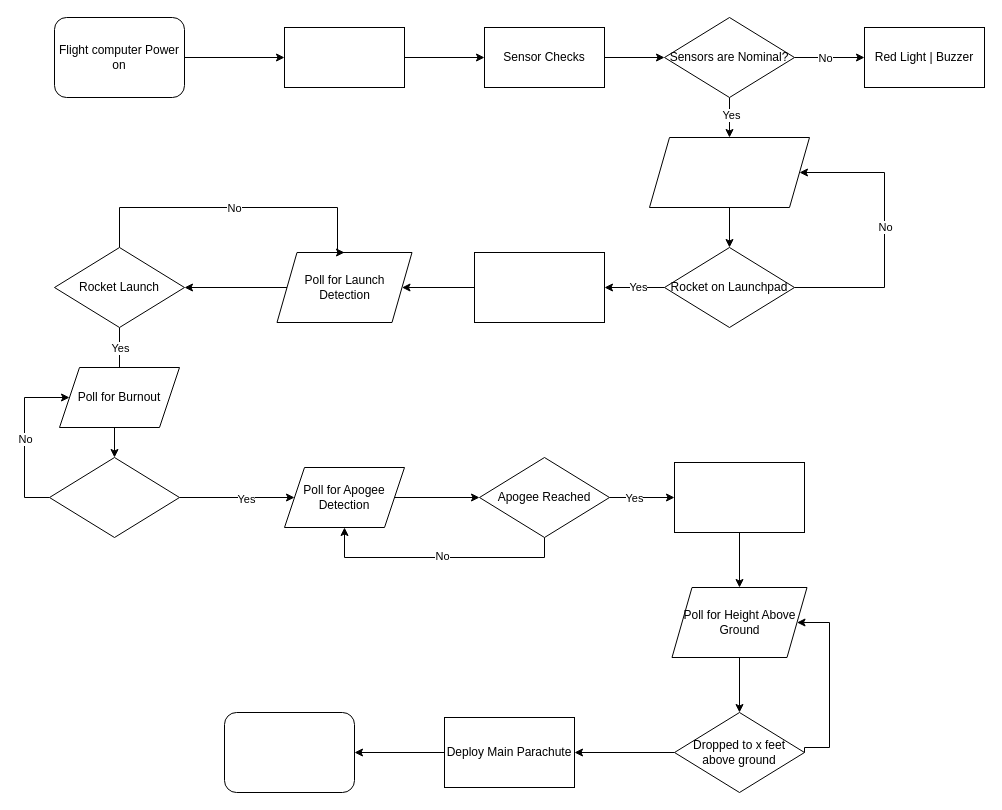
The diagram is 1002 pixels wide and 810 high, and some of its shapes have lost their labels. The shapes that lost their labels are listed below. From the top down, each one's centre as x and y in pixels, then its label:
point (344, 57): Check Battery Voltage
point (729, 172): Wait for confirmation of Rocket on Launchpad
point (539, 287): Switch to Launch State
point (114, 497): Burnout Occured
point (739, 497): Deploy Drogue Parachute (t+5 after apogee)
point (289, 752): End Program
